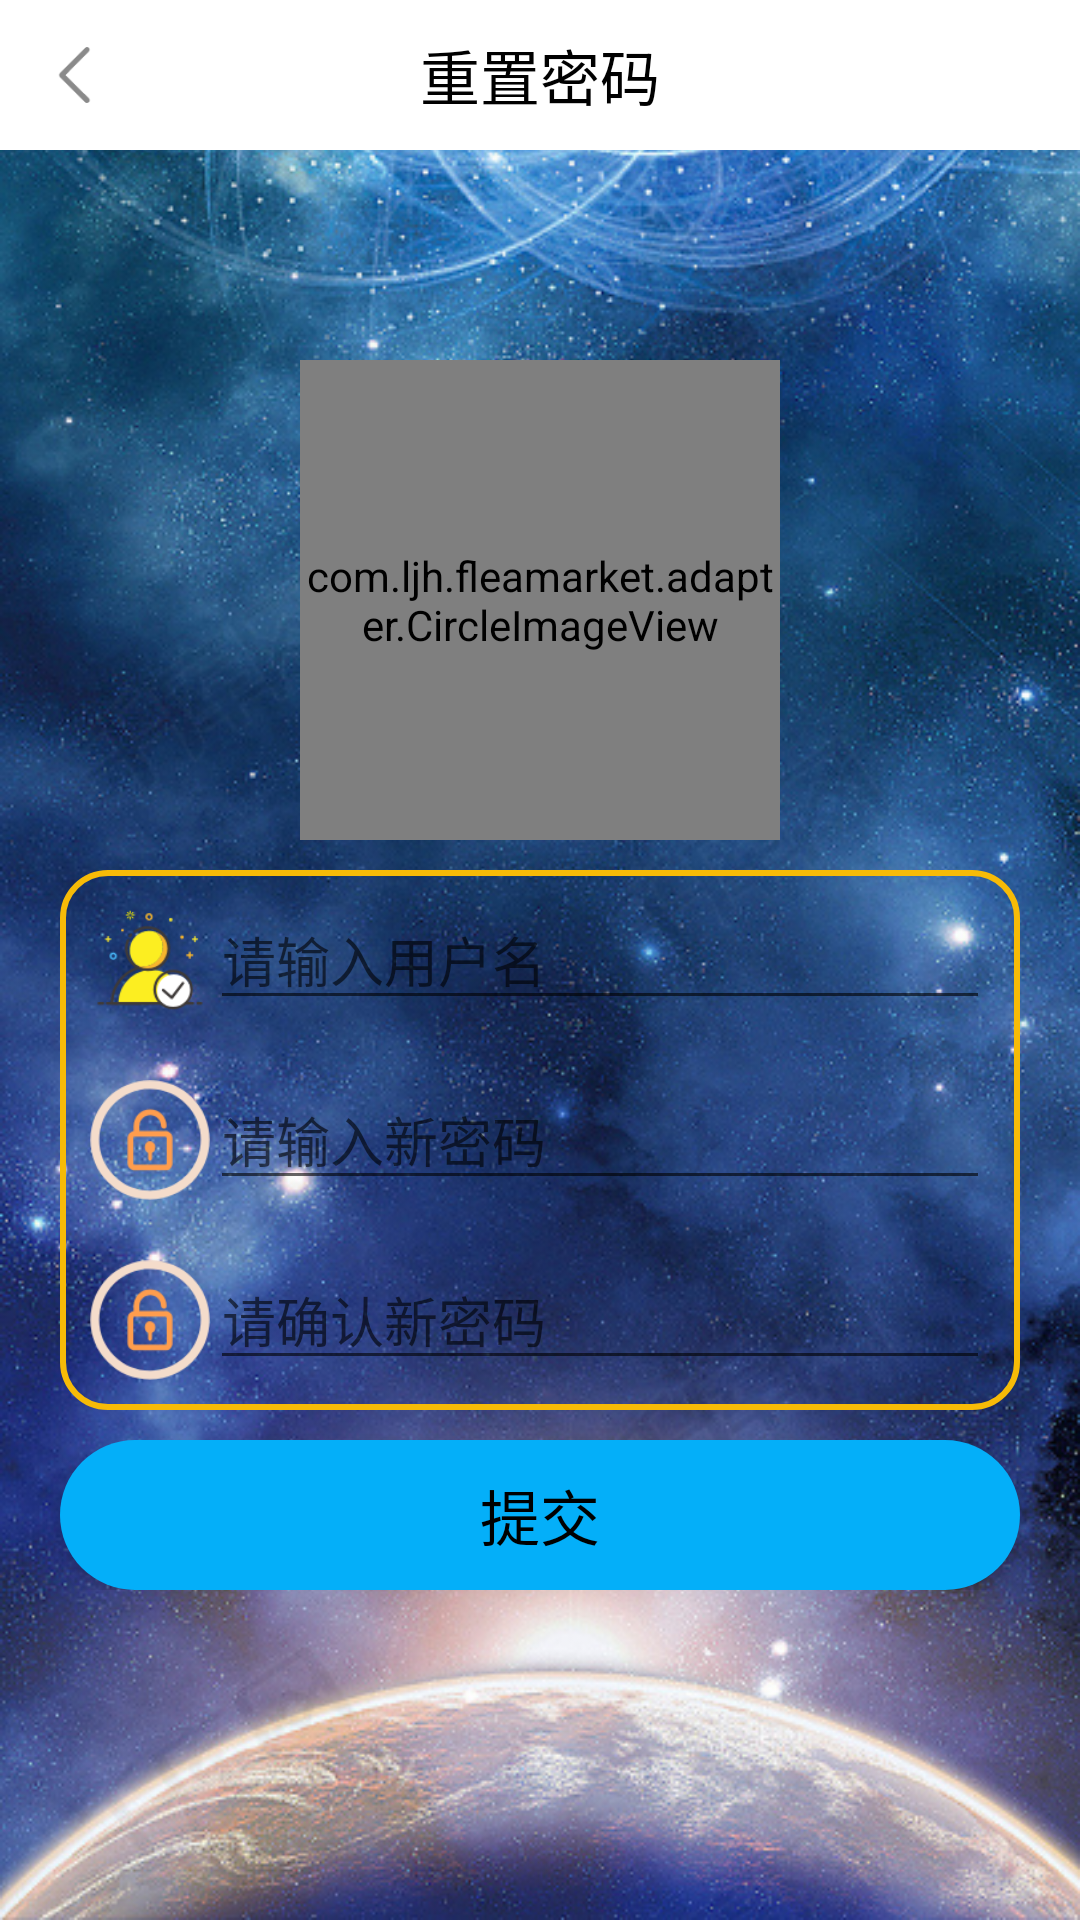

Point at icon controls on the screen. Image size 1080*1920, points as (x=x, y=y).
arrow back: (x=74, y=75)
password: (x=150, y=1140), (x=150, y=1320)
user: (x=150, y=960)
